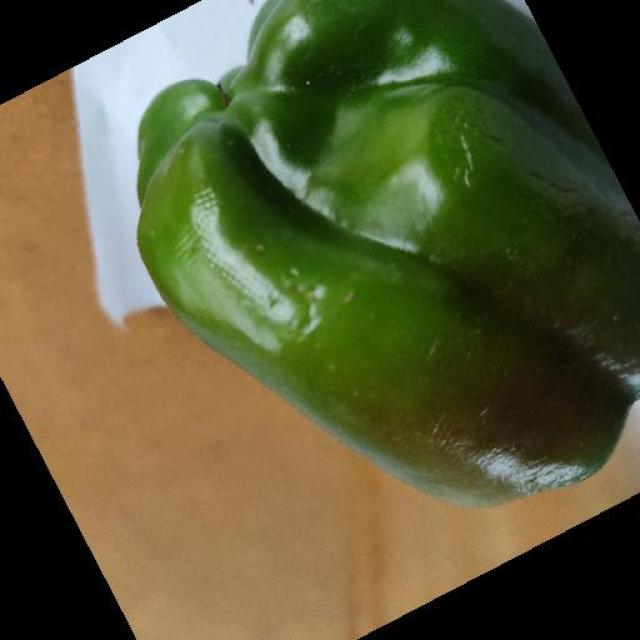Stale_Capsicum: (121, 38, 608, 467)
